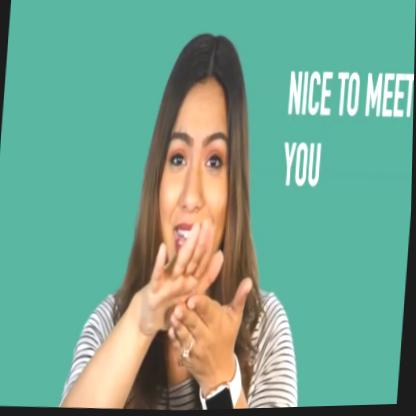NiceToMeetYou: (132, 205, 265, 397)
